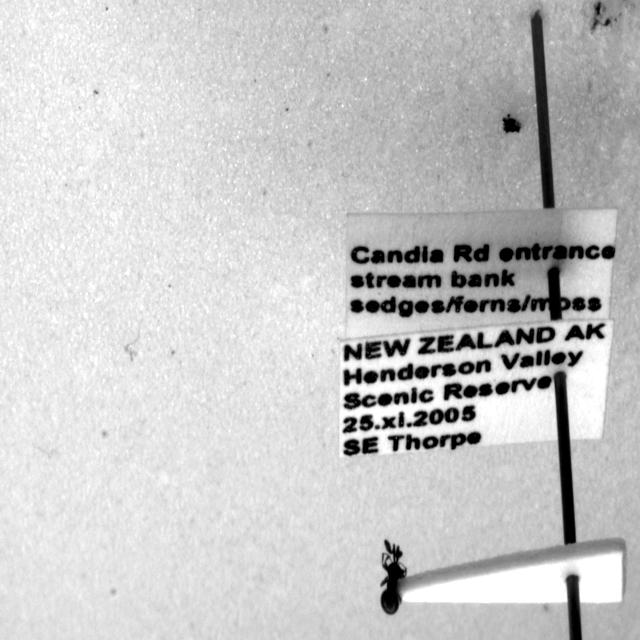typed_label: (340, 319, 614, 456), (346, 208, 618, 338)
